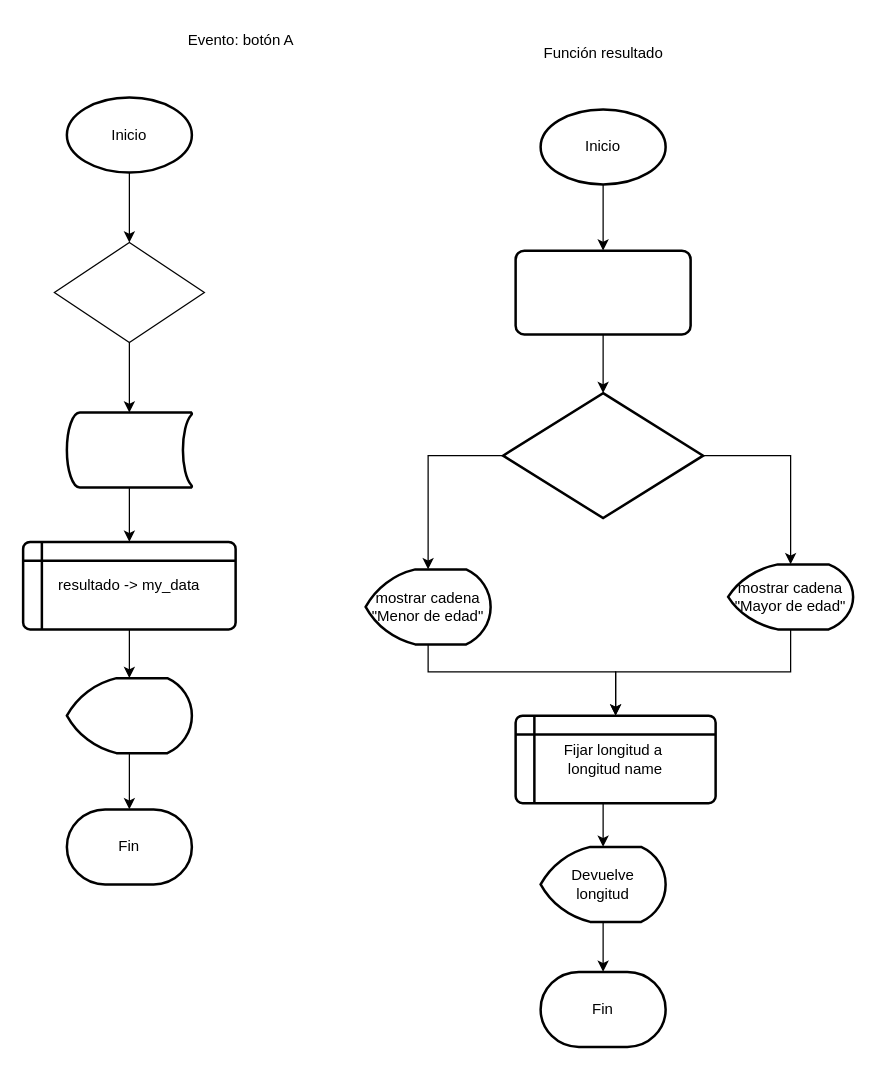
The diagram is 875 pixels wide and 1069 high, and some of its shapes have lost their labels. Each missing label, with the box of its shape:
Al presionarse el boton A: (53, 241, 204, 342)
Definir variable resultado: (65, 411, 192, 488)
Funciôn my_data -> name, age: (514, 249, 691, 335)
resultado: (65, 676, 192, 754)
si age >=18: (501, 391, 704, 519)
